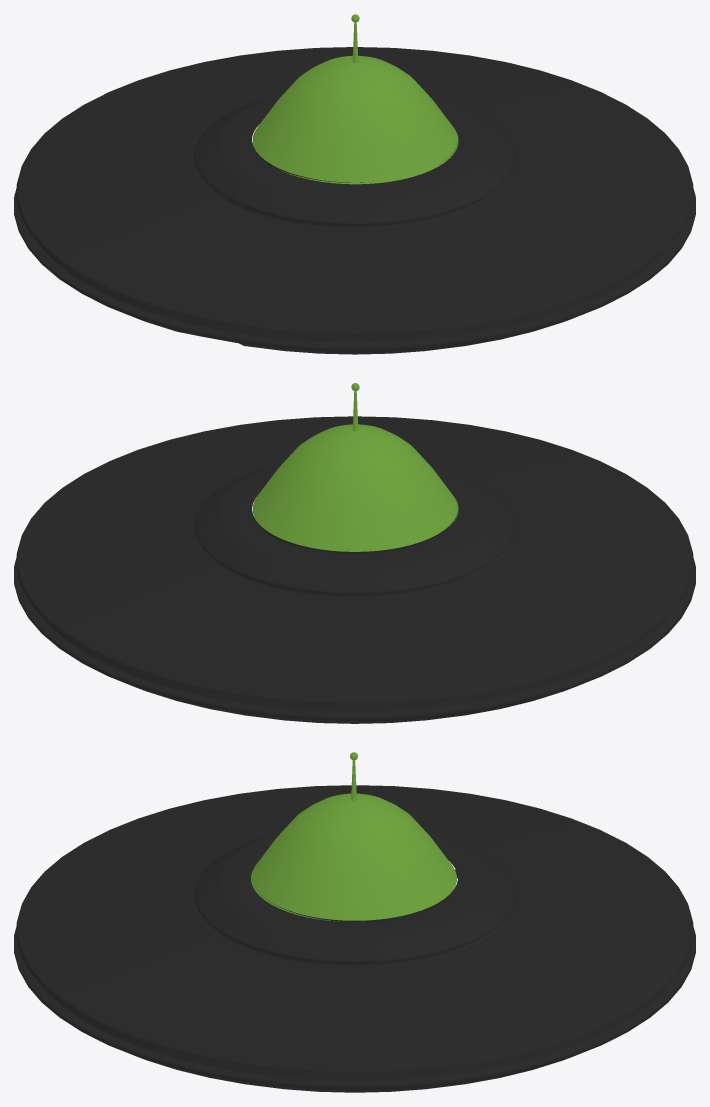
3 views of the same model, one above another, from view 1: azimuth 30°, elevation 25°; view 2: azimuth 150°, elevation 25°; view 3: azimuth 270°, elevation 25° (orthographic).
Visible parts, largest first — view 1: Körper, Kuppel; view 2: Körper, Kuppel; view 3: Körper, Kuppel.
Part boxes in pixels (box(x1,y1,x2,y2)): Körper: box(14, 47, 695, 354); Kuppel: box(252, 14, 458, 184); Körper: box(14, 416, 695, 723); Kuppel: box(252, 383, 458, 551); Körper: box(14, 785, 695, 1092); Kuppel: box(251, 752, 456, 921).
Size of the model in its own units: 97.33 by 39.9 by 97.17.
